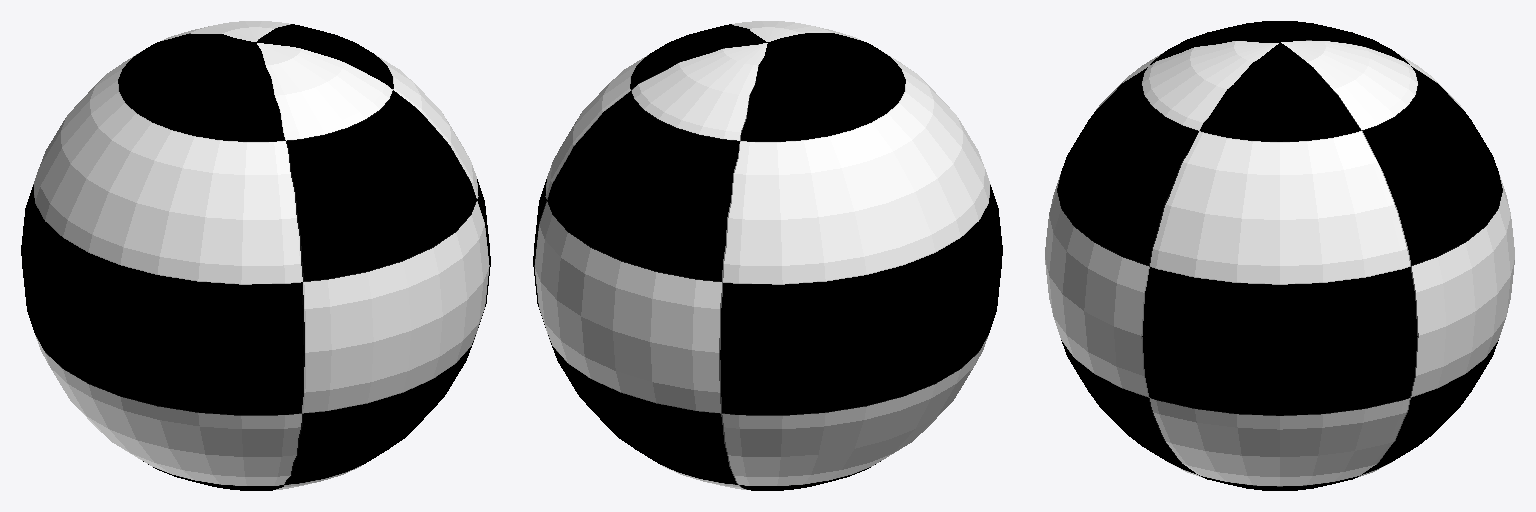
3 renders of one model, left to right at view 1: azimuth 30°, elevation 25°; view 2: azimuth 150°, elevation 25°; view 3: azimuth 270°, elevation 25°, orthographic.
Visible parts, largest first — view 1: sphere; view 2: sphere; view 3: sphere.
Part boxes in pixels (bbox=[...]): sphere: bbox=[21, 21, 490, 490]; sphere: bbox=[533, 21, 1002, 490]; sphere: bbox=[1045, 21, 1514, 490].
Bounding box in the file's own units: 1 × 1 × 1.
1 materials, 1 textured.